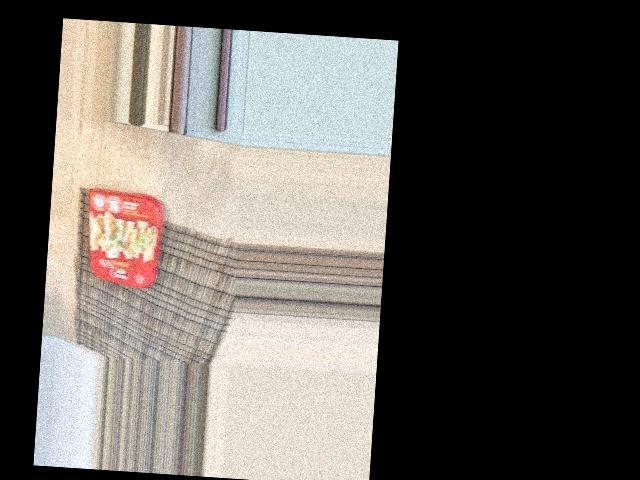cheese: (75, 173, 163, 292)
